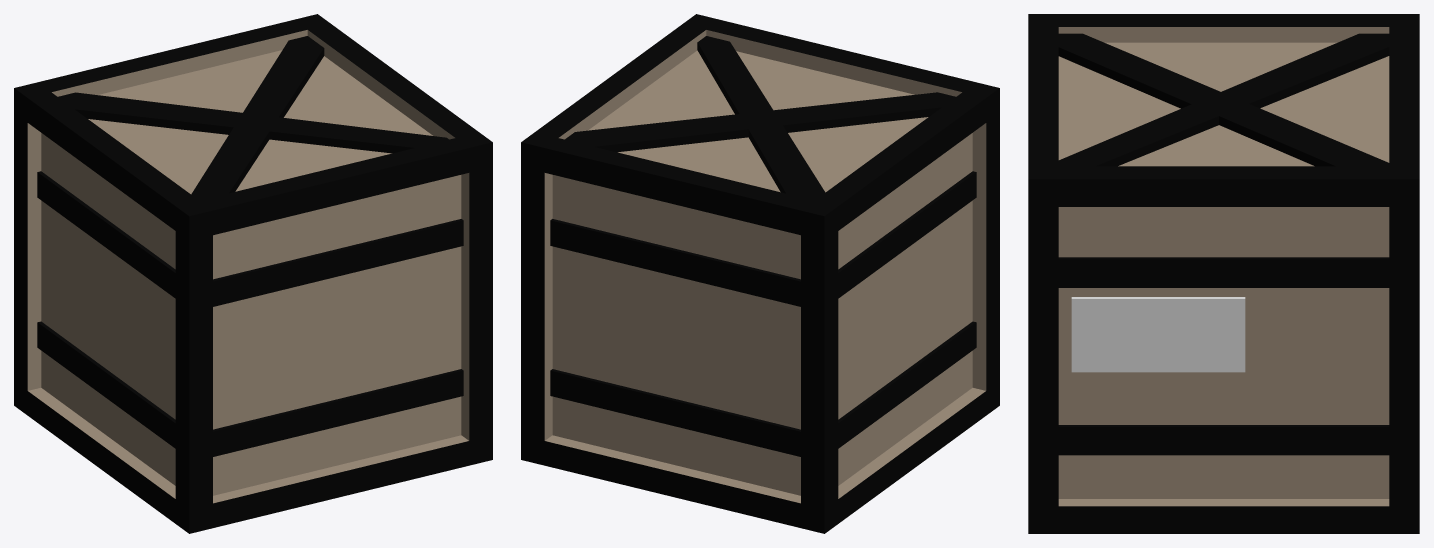
The model's file is package01.fbx.
3 renders of one model, left to right at view 1: azimuth 30°, elevation 25°; view 2: azimuth 150°, elevation 25°; view 3: azimuth 270°, elevation 25°, orthographic. The views are drawn at different scales.
Visible parts, largest first — view 1: pCube8; view 2: pCube8; view 3: pCube8.
Boxes of the visible parts, <box> form: pCube8: <box>14,14,492,533</box>; pCube8: <box>521,14,999,533</box>; pCube8: <box>1028,14,1419,533</box>.
Size of the model in its own units: 4.65 by 4.65 by 4.65.
